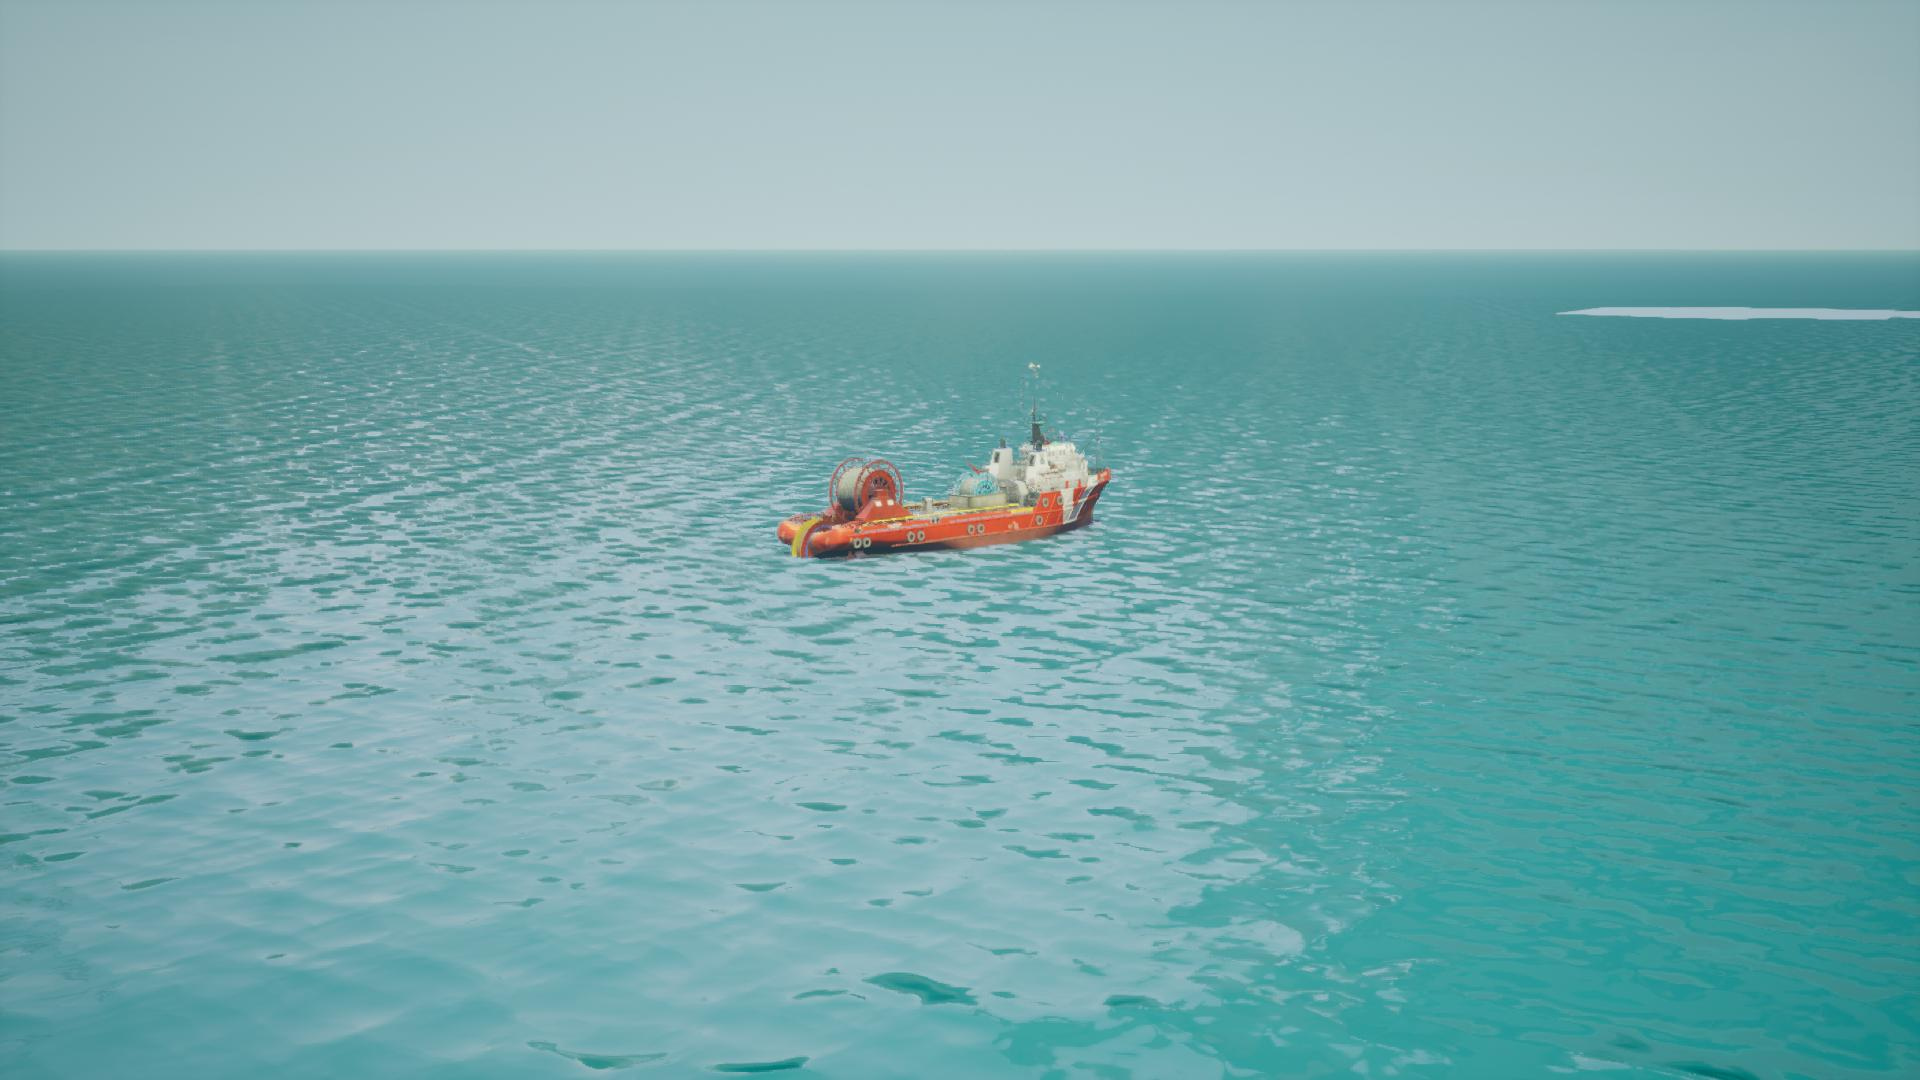Tug Boat: (778, 371, 1120, 567)
